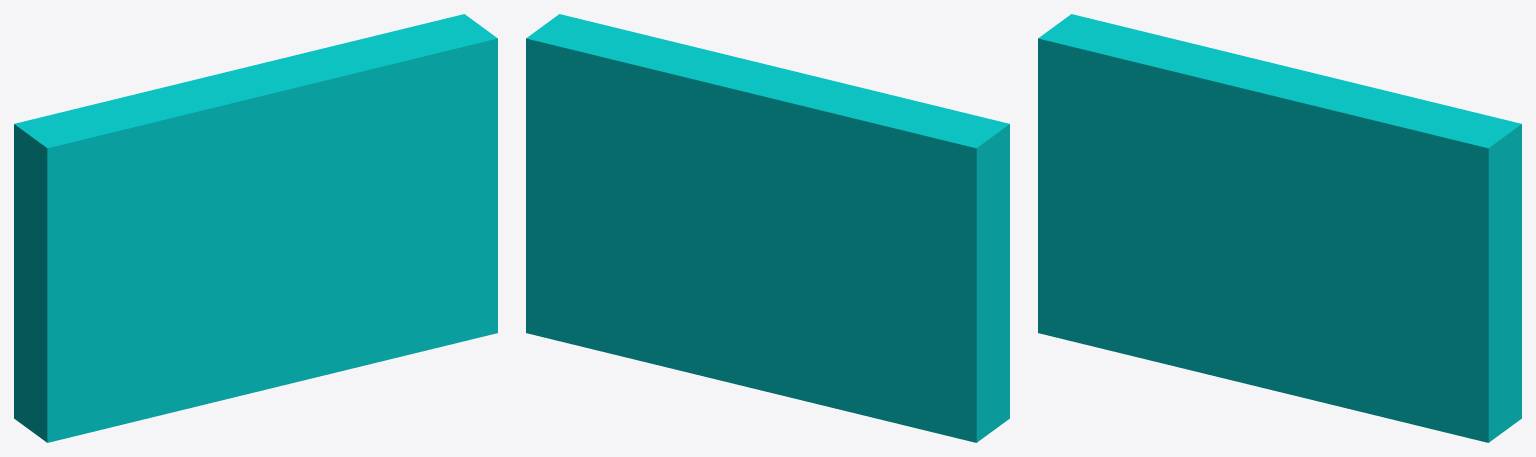
File: bulk_device.glb
3 views of the same model, side by side, from view 1: azimuth 30°, elevation 25°; view 2: azimuth 150°, elevation 25°; view 3: azimuth 330°, elevation 25° (orthographic).
Parts seen in each view (by area): view 1: world; view 2: world; view 3: world.
Part boxes in pixels (x1,y1,x2,y2): world: [14, 14, 497, 442]; world: [526, 14, 1009, 442]; world: [1038, 14, 1521, 442].
Bounding box in the file's own units: 19.46 × 12.16 × 2.5.
